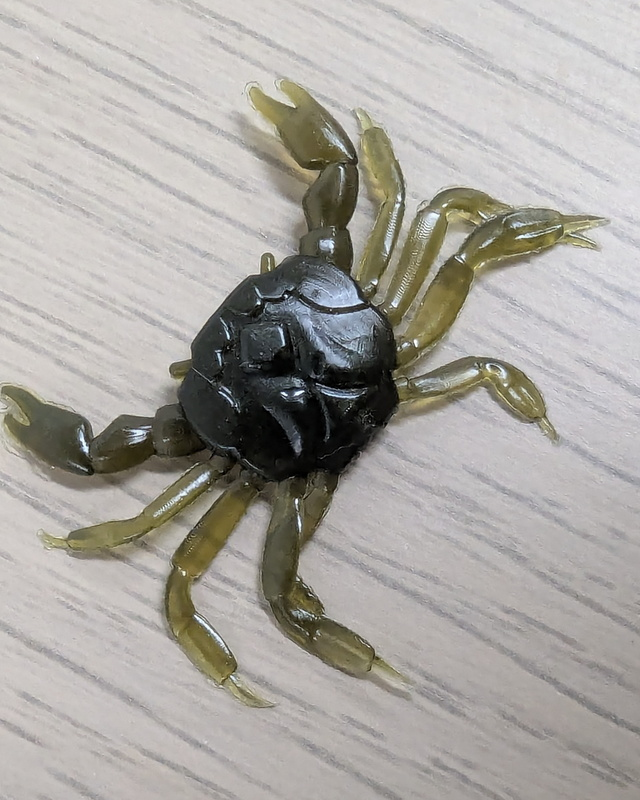crab2: (1, 76, 612, 709)
